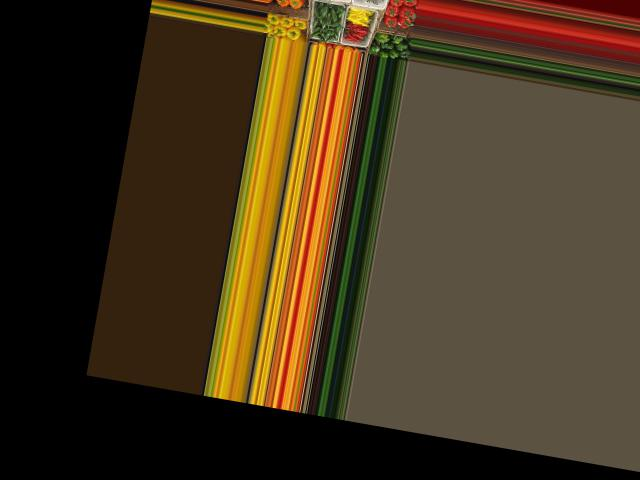bell_pepper: (388, 31, 405, 49)
